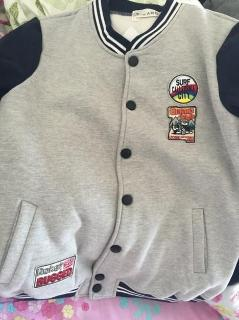long sleeve top: (0, 0, 239, 303)
